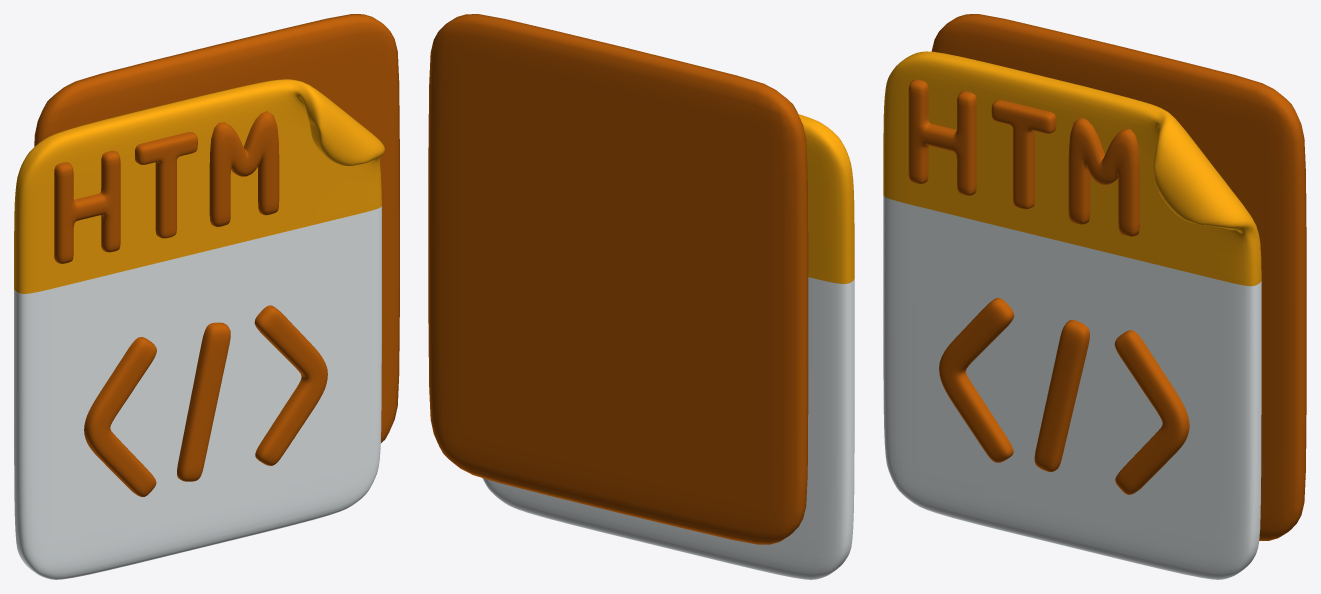
Rendered from html.glb.
3 views of the same model, side by side, from view 1: azimuth 30°, elevation 25°; view 2: azimuth 150°, elevation 25°; view 3: azimuth 330°, elevation 25° (orthographic). The views are drawn at different scales.
Visible parts, largest first — view 1: Plane.060, Plane.059, Vert.012, Vert.015, Cube.029, Cube.028; view 2: Plane.059, Plane.060; view 3: Plane.060, Plane.059, Vert.012, Vert.015, Cube.029, Cube.028.
Part boxes in pixels (<box>): Plane.060: <box>14,79,384,579</box>; Plane.059: <box>34,14,399,442</box>; Vert.012: <box>84,305,327,496</box>; Vert.015: <box>209,111,279,227</box>; Cube.029: <box>54,150,120,263</box>; Cube.028: <box>135,132,197,238</box>; Plane.059: <box>428,14,808,544</box>; Plane.060: <box>482,114,854,579</box>; Plane.060: <box>883,51,1261,579</box>; Plane.059: <box>931,14,1306,540</box>; Vert.012: <box>939,298,1189,494</box>; Vert.015: <box>1068,117,1139,236</box>; Cube.029: <box>908,79,976,195</box>; Cube.028: <box>991,99,1056,209</box>.
Bounding box in the file's own units: 3.92 × 4.59 × 0.7091.
